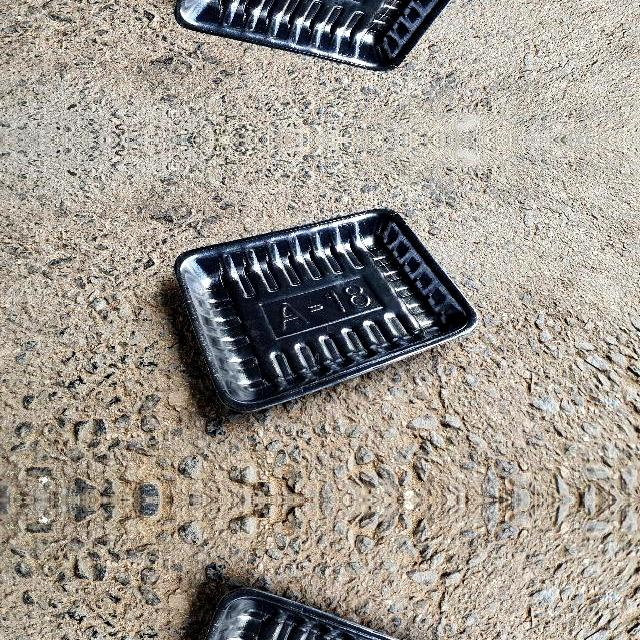Styrofoam: (172, 208, 478, 412), (175, 209, 478, 411), (171, 0, 478, 71), (175, 0, 452, 71), (171, 588, 478, 640)
